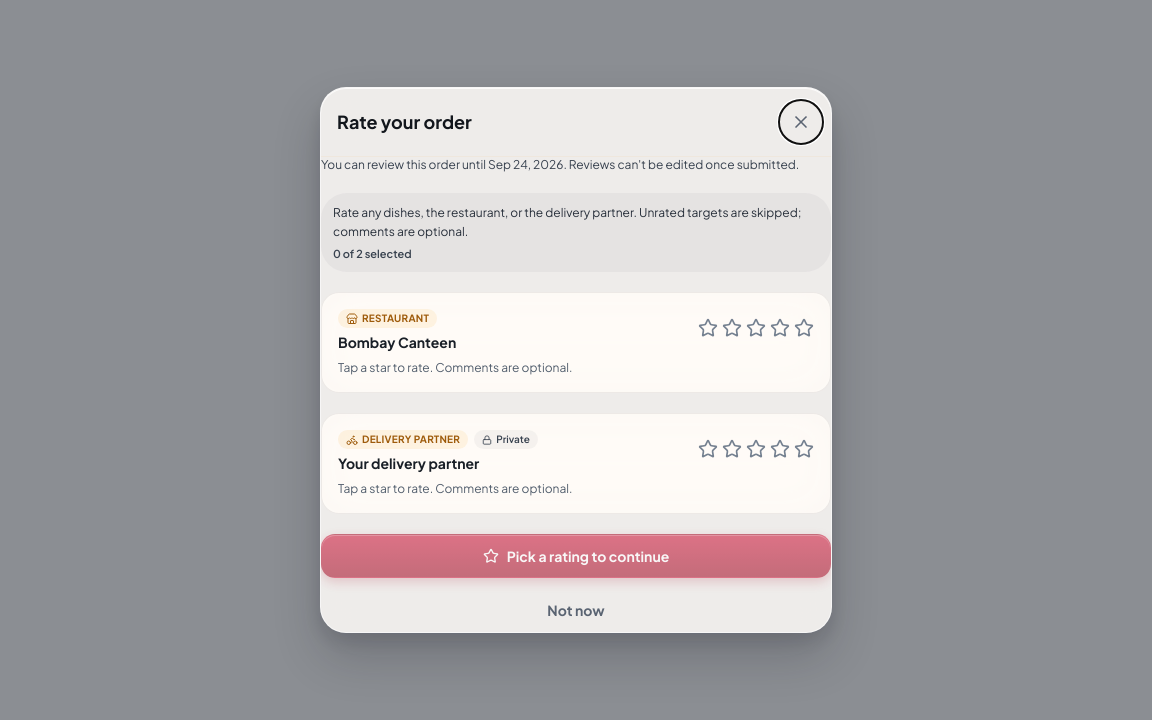
Scenario: RateOrderModal › confirms in a way that says the review is final
expect the text "Bombay Canteen" is shown: met, box x1=338 y1=332 x2=456 y2=352
Step 1. Click the radio button named "5 stars" in the row of "Bombay Canteen" → (804, 331), box x1=794 y1=318 x2=814 y2=344
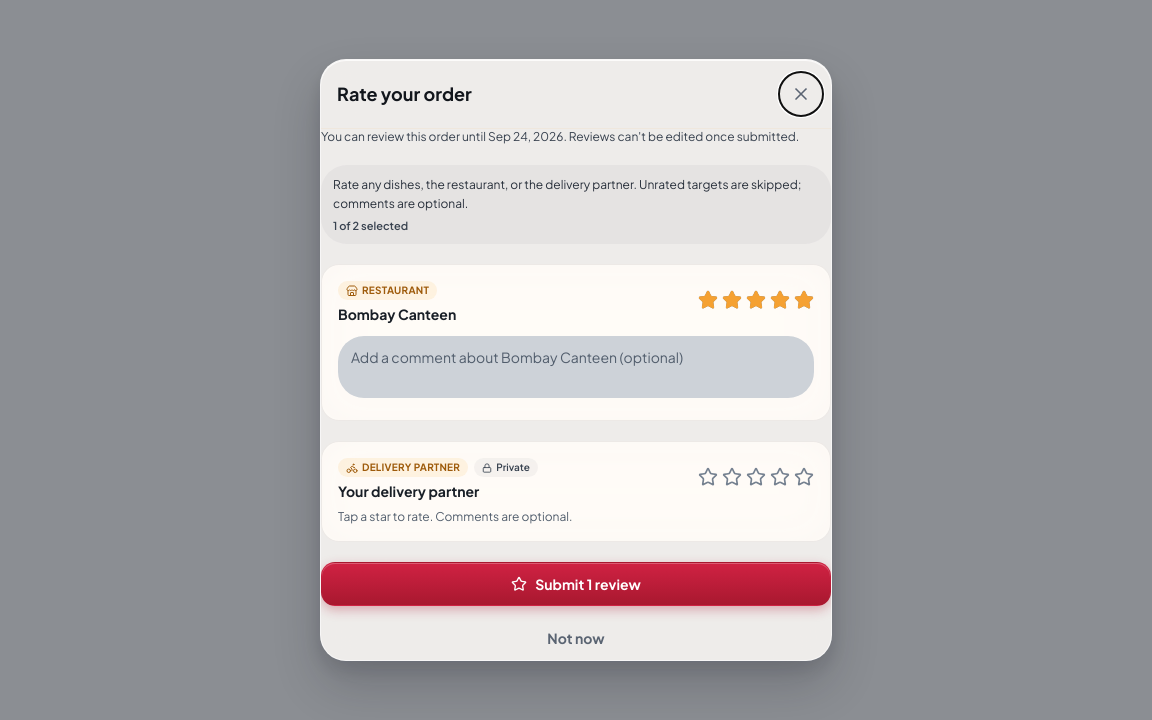
Step 2. Click the button "Submit 1 review" → (576, 584), box x1=321 y1=562 x2=831 y2=606
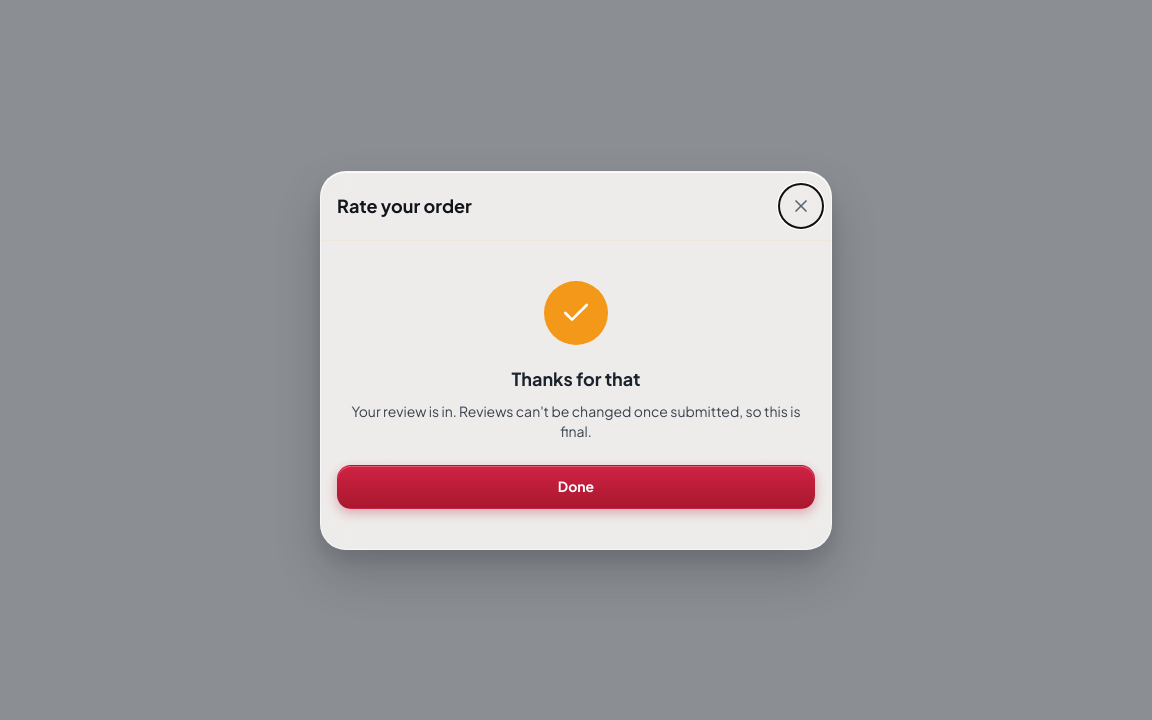
expect the heading "Thanks for that" is shown: met, box x1=512 y1=364 x2=640 y2=392
expect the text "can't be changed once submitted" is shown: met, box x1=351 y1=402 x2=801 y2=440
